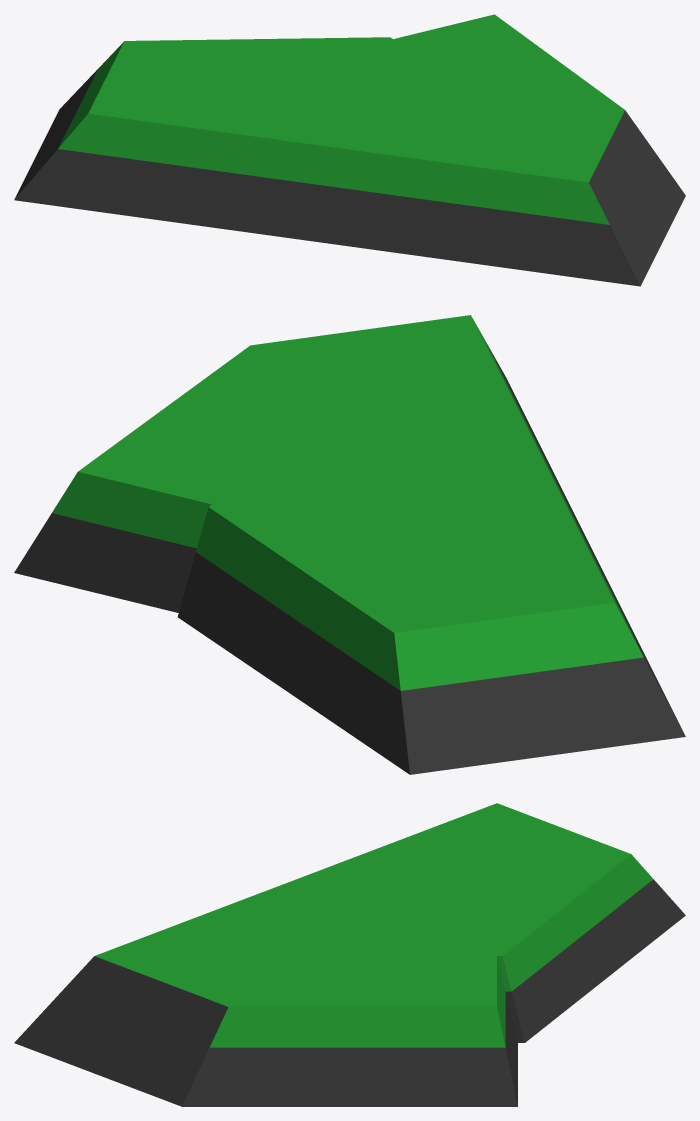
File: Island4.FBX
The picture shows the model from 3 angles, top to bottom: view 1: azimuth 30°, elevation 25°; view 2: azimuth 150°, elevation 25°; view 3: azimuth 270°, elevation 25°; orthographic projection. The views are drawn at different scales.
Parts seen in each view (by area): view 1: island 2; view 2: island 2; view 3: island 2.
Boxes of the visible parts, bbox=[...] form: island 2: bbox=[14, 14, 685, 286]; island 2: bbox=[14, 315, 685, 774]; island 2: bbox=[14, 803, 685, 1106].
Size of the model in its own units: 101 by 14.86 by 112.
